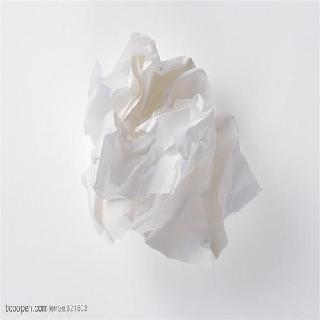8/可回收垃圾/纸: (80, 31, 263, 266)
